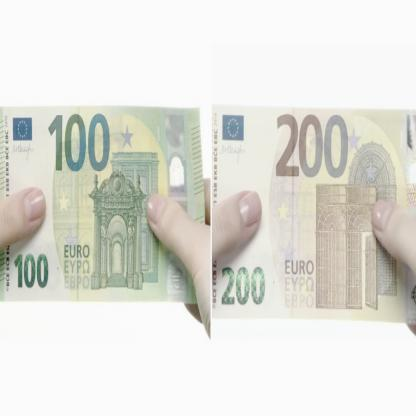euro_banknote: (205, 113, 416, 317), (1, 107, 208, 306)
